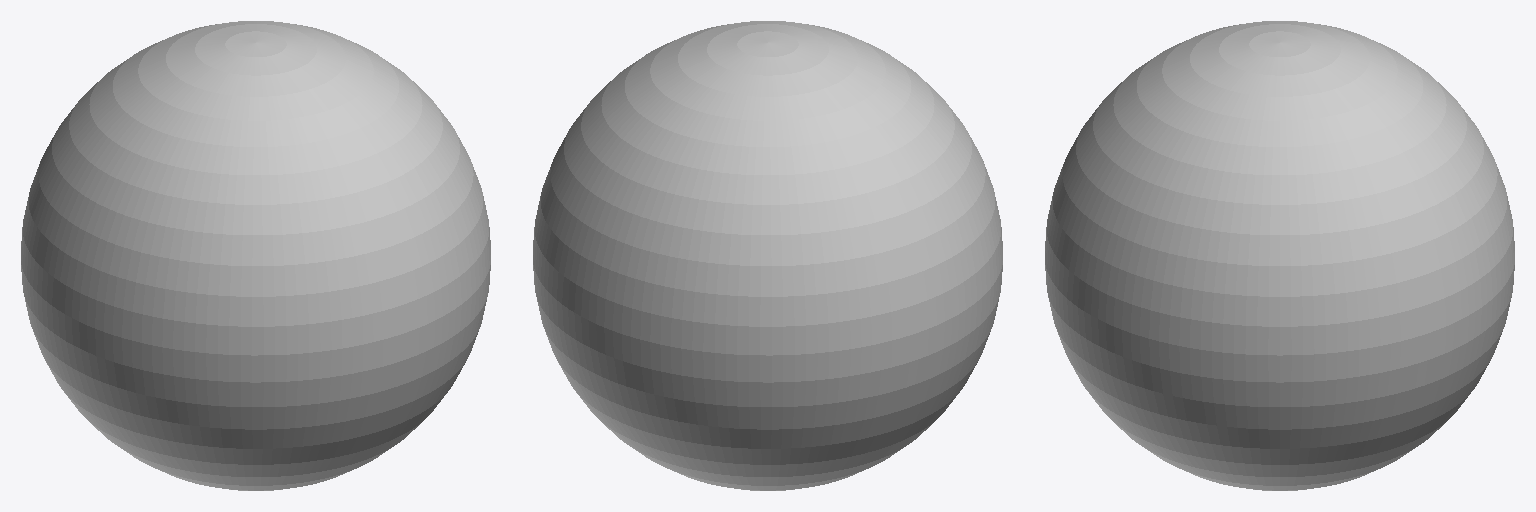
Rendered from Earth.obj.
3 renders of one model, left to right at view 1: azimuth 30°, elevation 25°; view 2: azimuth 150°, elevation 25°; view 3: azimuth 270°, elevation 25°, orthographic.
Parts seen in each view (by area): view 1: Sphere_Material.002_0; view 2: Sphere_Material.002_0; view 3: Sphere_Material.002_0.
Part boxes in pixels (x1,y1,x2,y2): Sphere_Material.002_0: (21,21,490,490); Sphere_Material.002_0: (533,21,1002,490); Sphere_Material.002_0: (1045,21,1514,490).
Size of the model in its own units: 7.92 by 7.92 by 7.92.